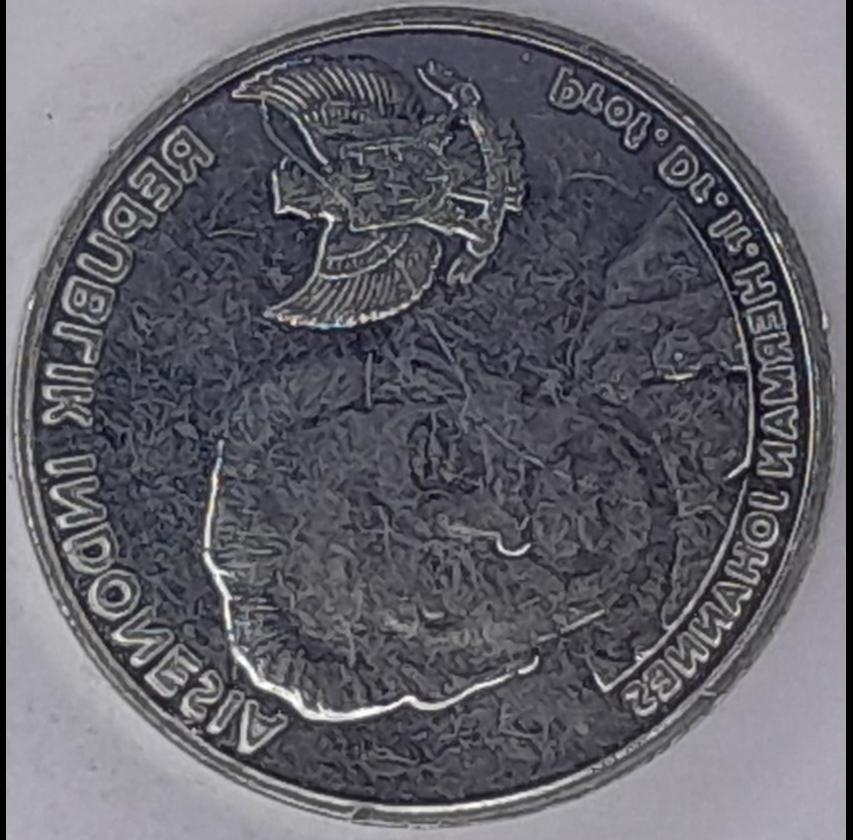coin_100_e2016: (9, 0, 838, 830)
